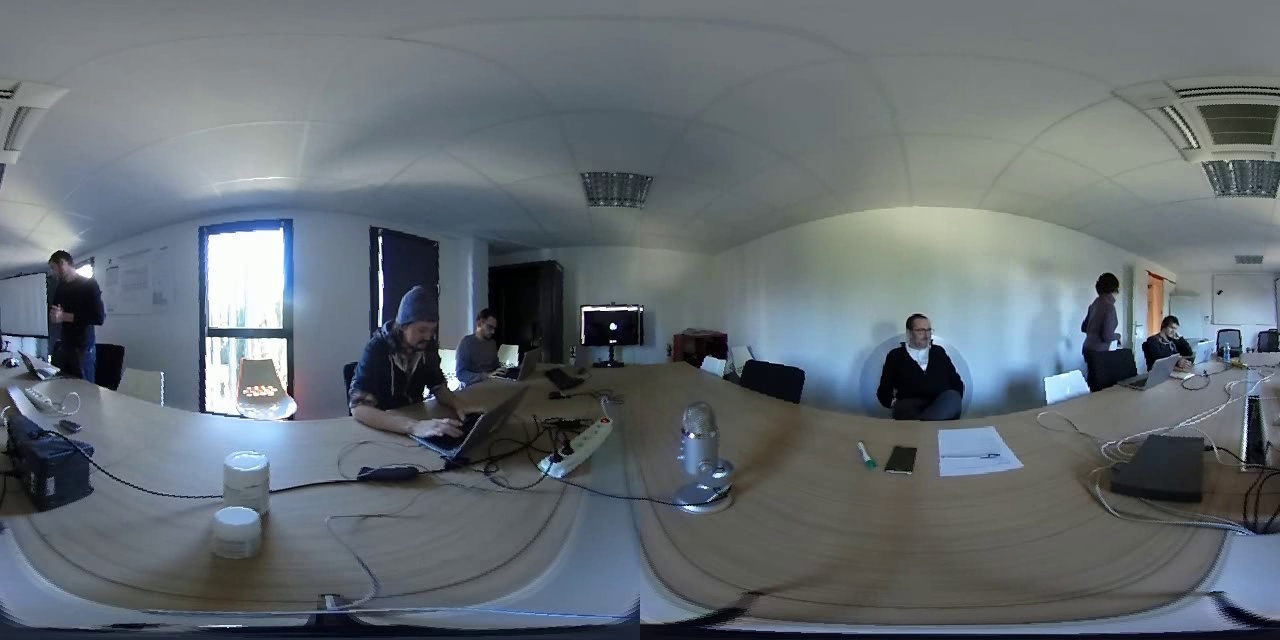person: (337, 270, 467, 429), (861, 288, 977, 419), (32, 238, 116, 352), (1074, 258, 1128, 367), (1143, 300, 1192, 364), (471, 303, 508, 376)
